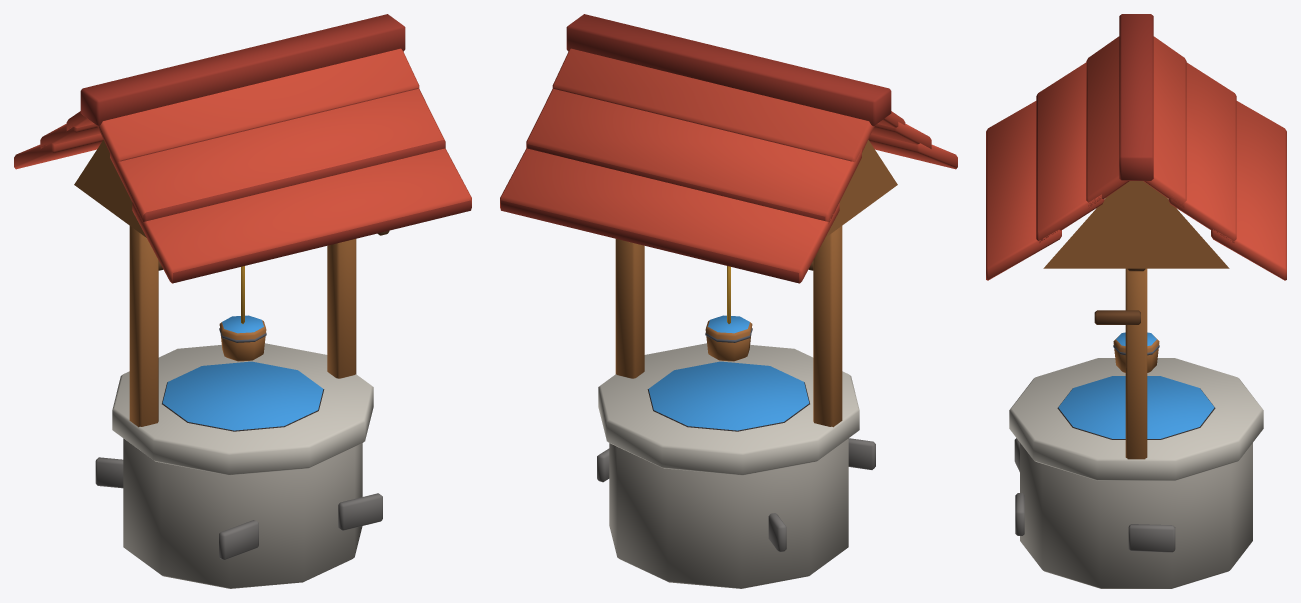
File: P_MedWaterWell.fbx
The picture shows the model from 3 angles, left to right: view 1: azimuth 30°, elevation 25°; view 2: azimuth 150°, elevation 25°; view 3: azimuth 270°, elevation 25°; orthographic projection. The views are drawn at different scales.
Visible parts, largest first — view 1: M_WaterWell; view 2: M_WaterWell; view 3: M_WaterWell.
Boxes of the visible parts, x1,y1,x2,y2 form: M_WaterWell: [14, 14, 471, 588]; M_WaterWell: [500, 14, 957, 588]; M_WaterWell: [986, 14, 1286, 588].
Bounding box in the file's own units: 2.19 × 3.26 × 1.94.
Materials: 1 (1 with a texture image).
